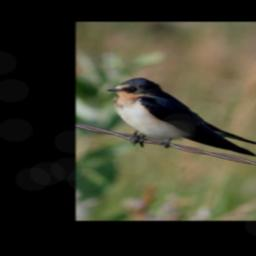Swallow: (105, 75, 256, 160)
